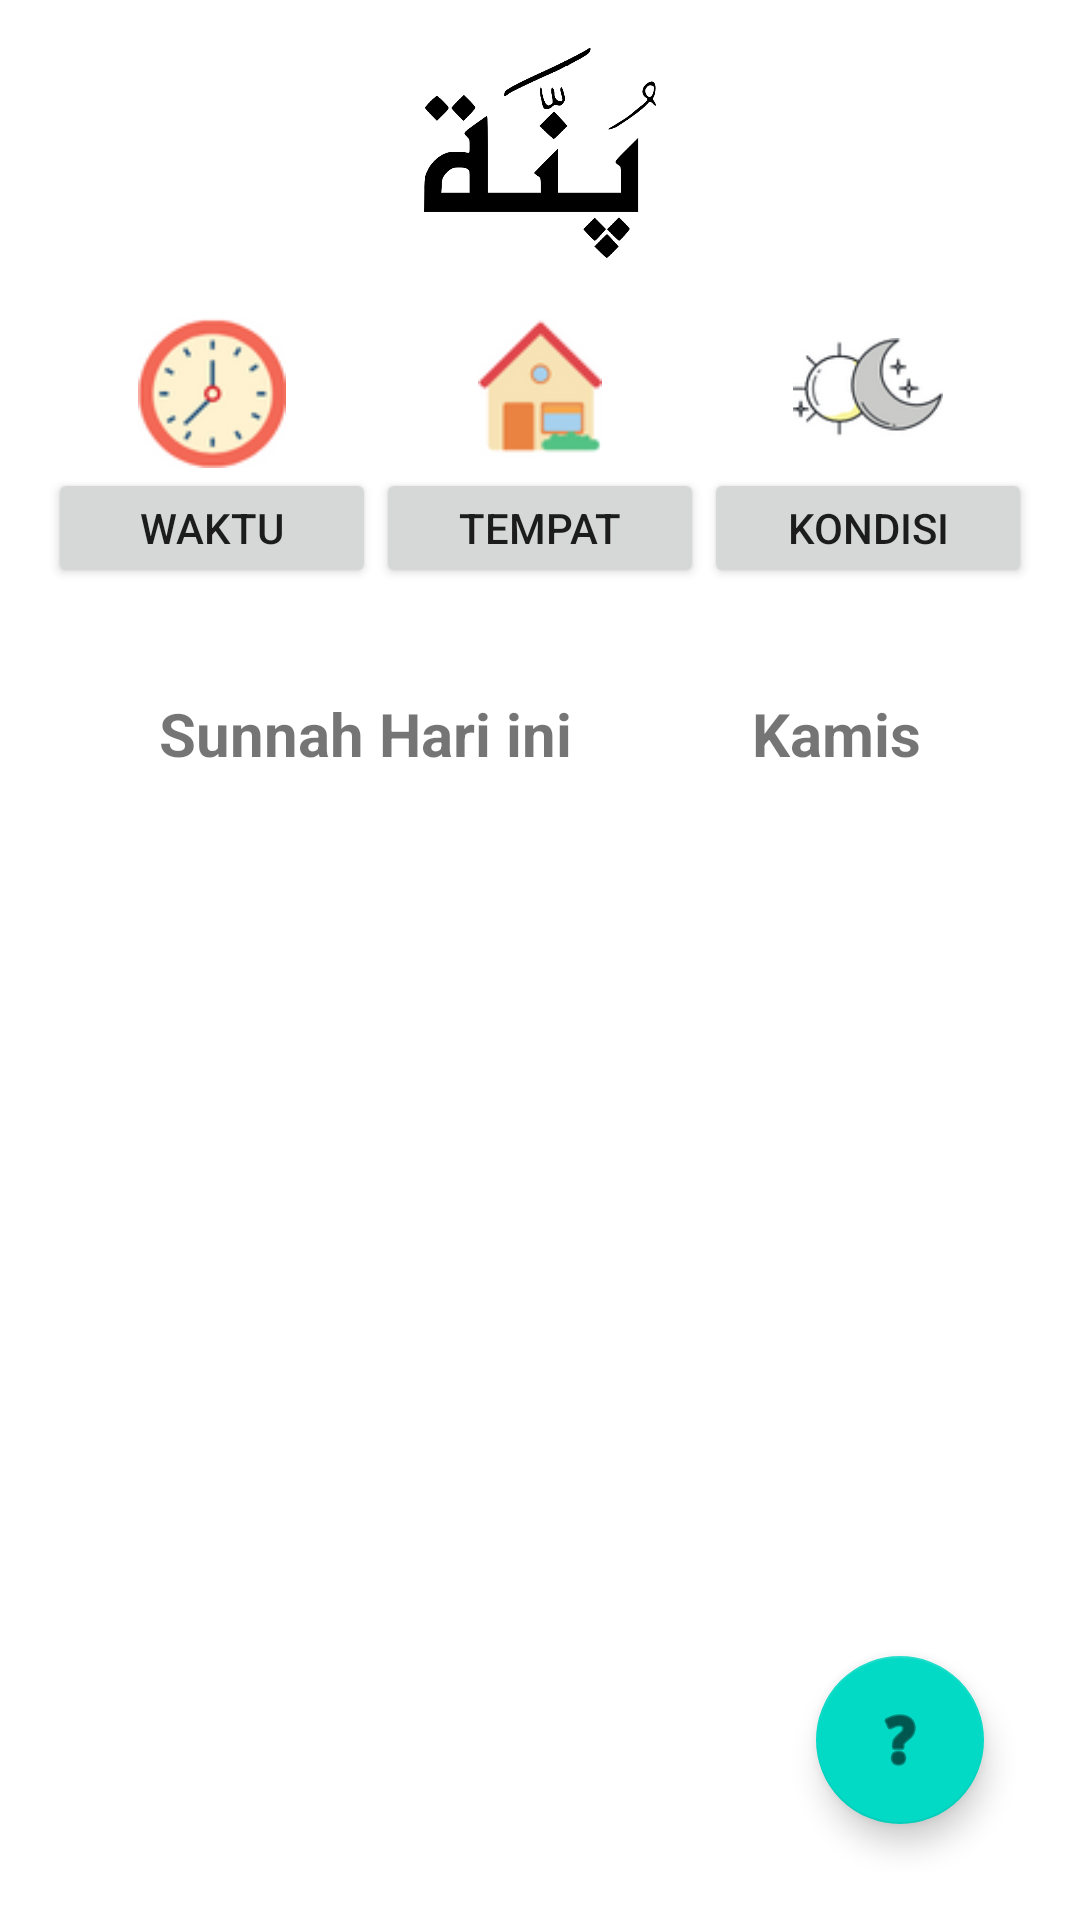

Icon click points for this 1080*1920 phone screenshot, format point (x, y):
help: point (900, 1740)
